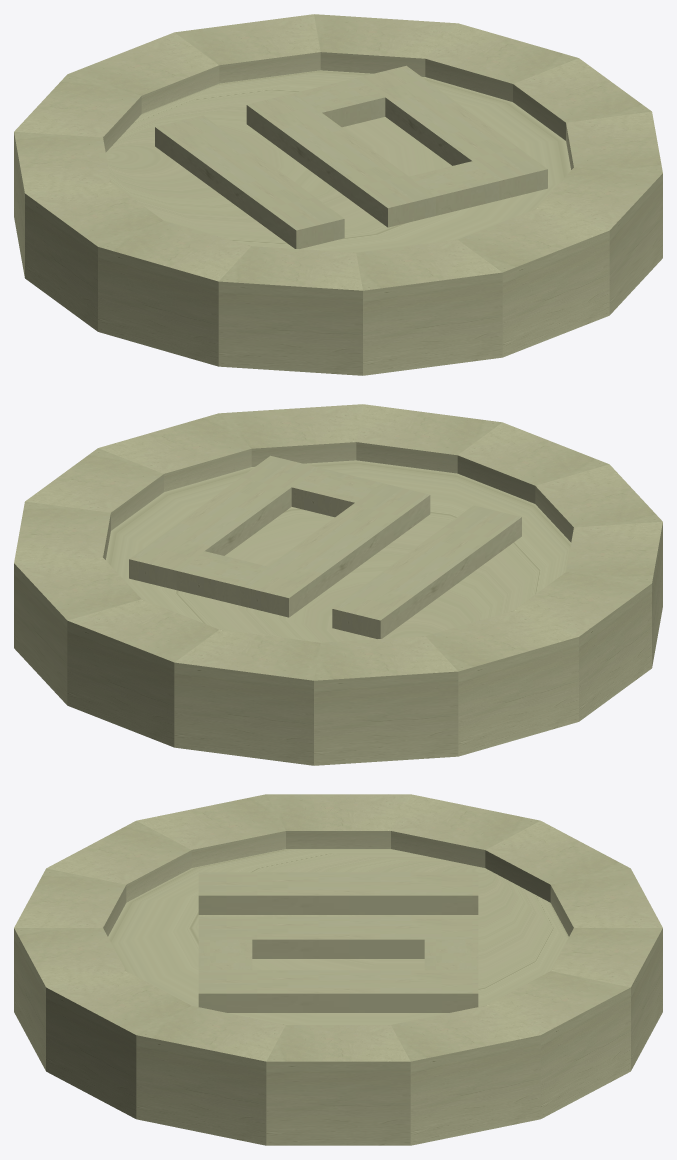
File: 10coin.fbx
3 renders of one model, top to bottom at view 1: azimuth 30°, elevation 25°; view 2: azimuth 150°, elevation 25°; view 3: azimuth 270°, elevation 25°, orthographic.
Visible parts, largest first — view 1: Cylinder; view 2: Cylinder; view 3: Cylinder.
Part boxes in pixels (x1,y1,x2,y2): Cylinder: (14,14,662,375); Cylinder: (14,404,662,765); Cylinder: (14,794,662,1145).
Bounding box in the file's own units: 195 × 29.38 × 200.
